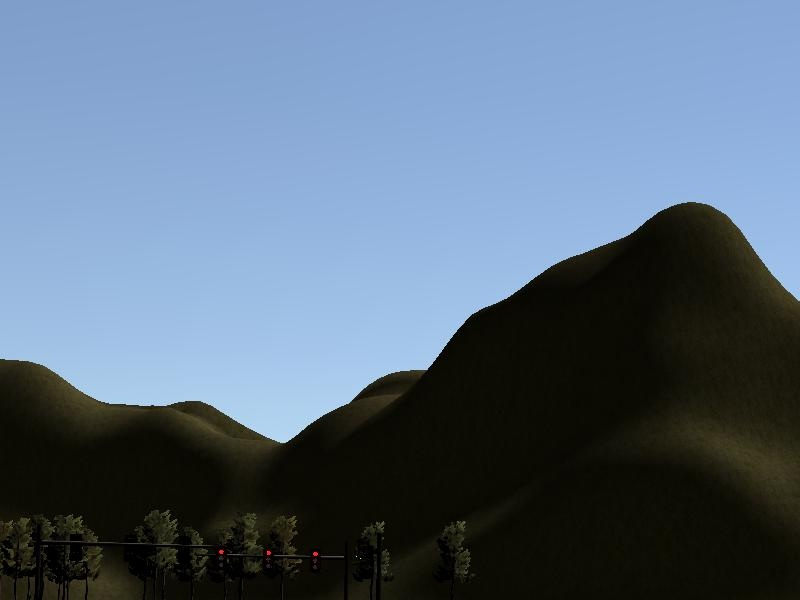RED: (215, 544, 229, 574), (309, 547, 322, 577), (262, 547, 275, 575)
